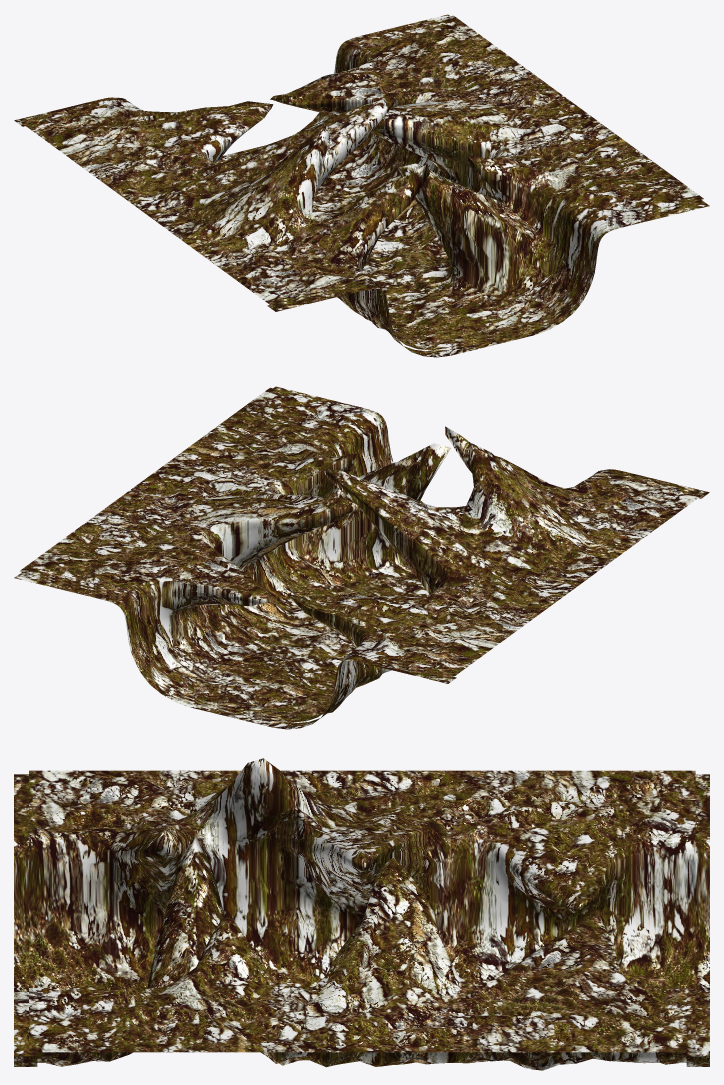
Rendered from ArchSpikeValley.FBX.
The picture shows the model from 3 angles, top to bottom: view 1: azimuth 30°, elevation 25°; view 2: azimuth 150°, elevation 25°; view 3: azimuth 270°, elevation 25°; orthographic projection. The views are drawn at different scales.
Visible parts, largest first — view 1: SpikeArchValley; view 2: SpikeArchValley; view 3: SpikeArchValley.
Part boxes in pixels (x1,y1,x2,y2): SpikeArchValley: (14,14,709,357); SpikeArchValley: (14,386,709,729); SpikeArchValley: (14,758,709,1070).
Bounding box in the file's own units: 1000 × 371 × 1044.
